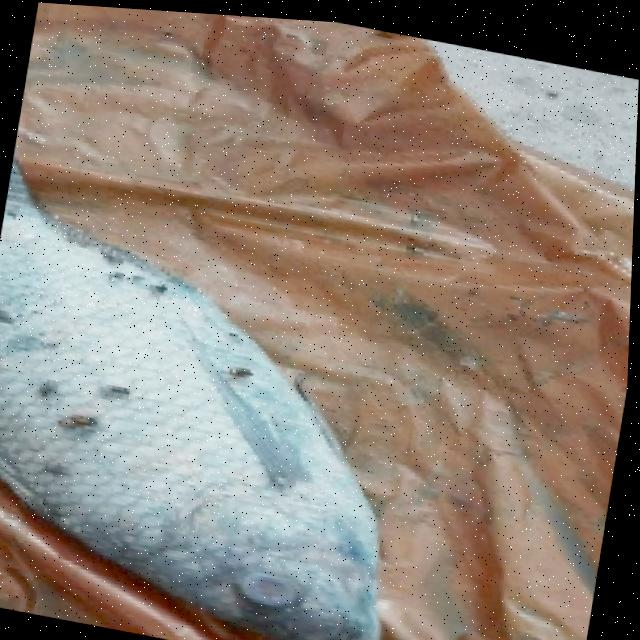Non-Fresh: (0, 210, 457, 640), (231, 534, 316, 610)
